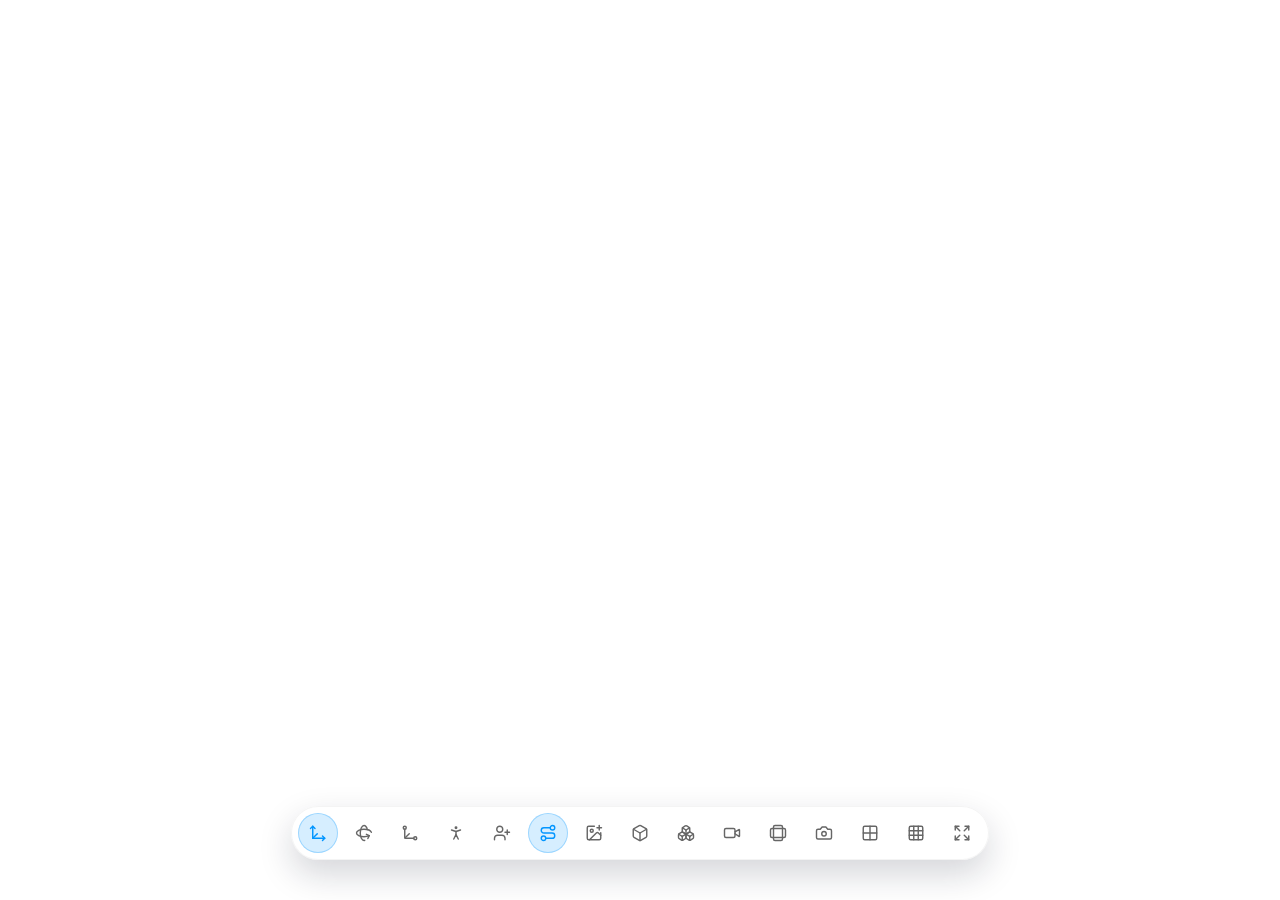
opens the model library panel from the viewport capsule
What coordinates should you click on to do the following:
click the button named "模型库"
I would click on:
 (686, 833)
Its box is 666,813 -> 706,853.
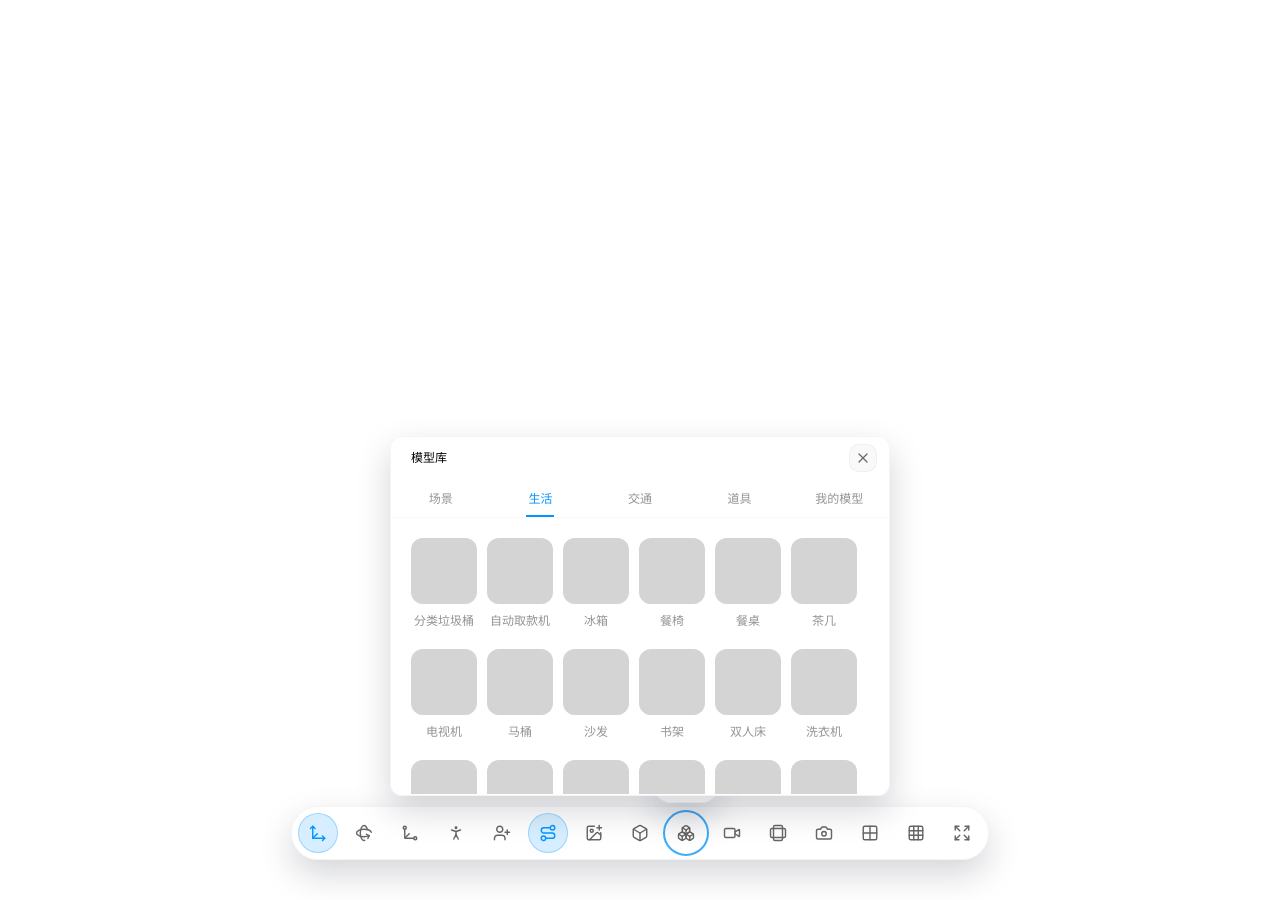
Expected: the dialog "模型库" is shown, 390,436 -> 890,796
Expected: the tab "场景" is shown, 391,478 -> 491,518
Expected: the tab "交通" is shown, 590,478 -> 690,518
